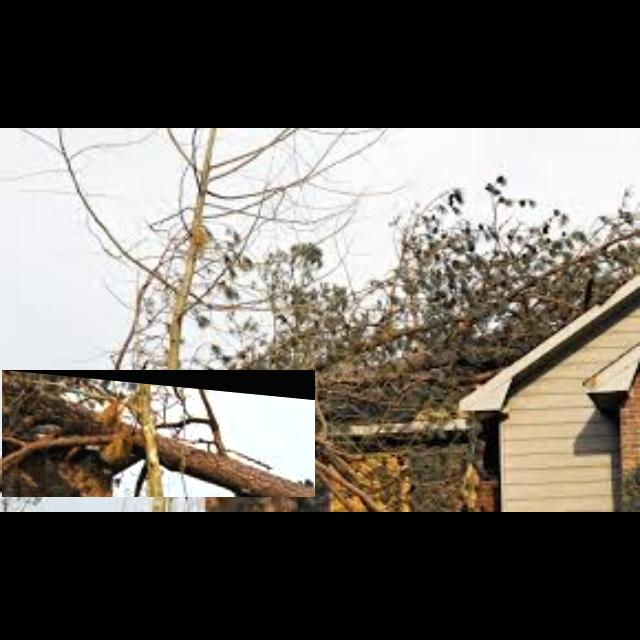fallen_tree: (2, 370, 316, 498)
